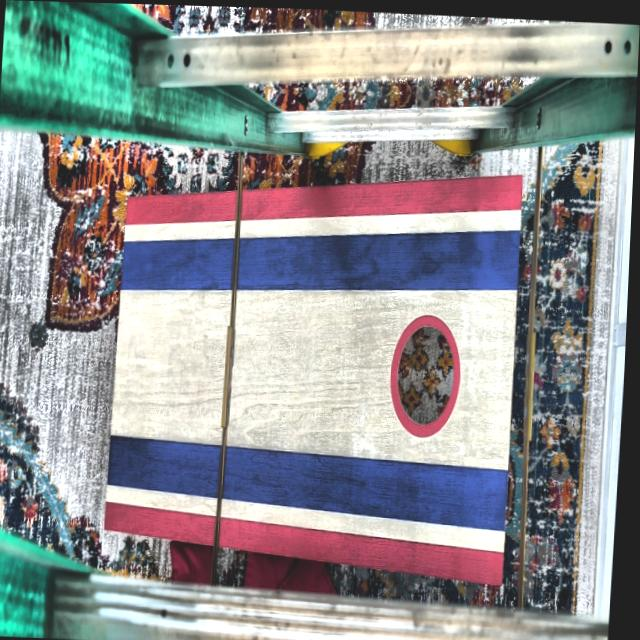board: (113, 196, 523, 544)
hole: (389, 310, 467, 439)
red-bean-bag: (281, 557, 344, 595), (171, 538, 218, 583), (249, 551, 299, 588)
